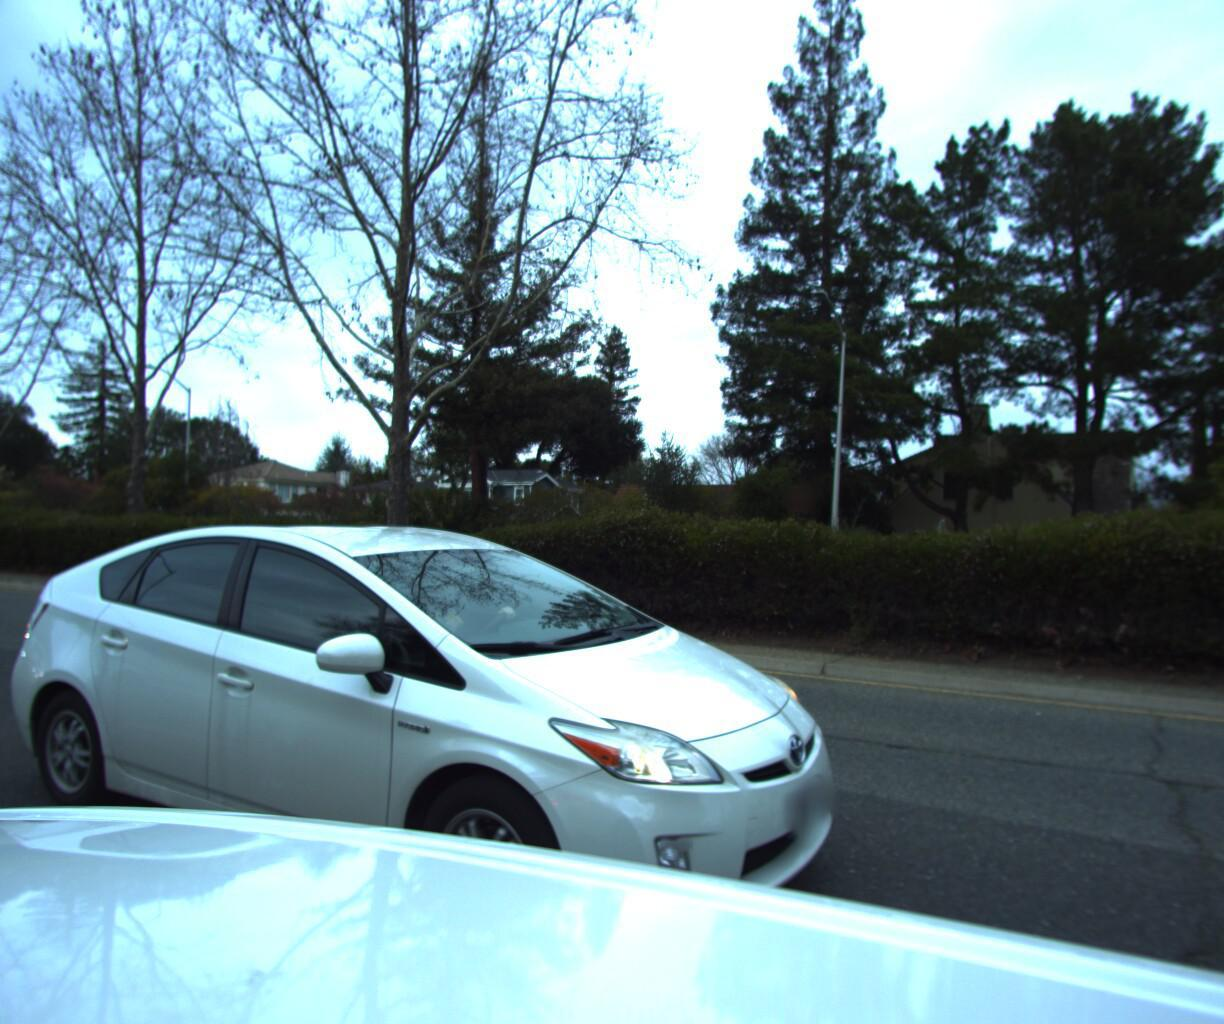car: (0, 518, 853, 1024)
